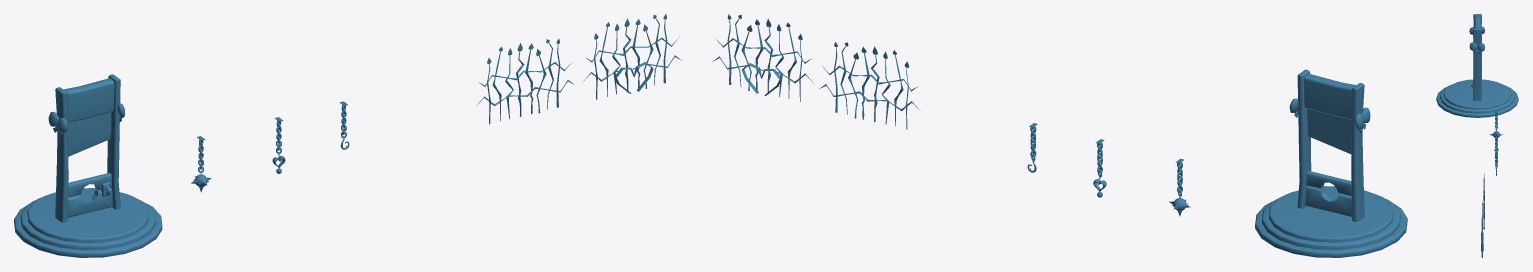
File: Set_Atlas3_Guillotina.fbx
The picture shows the model from 3 angles, left to right: view 1: azimuth 30°, elevation 25°; view 2: azimuth 150°, elevation 25°; view 3: azimuth 270°, elevation 25°; orthographic projection. The views are drawn at different scales.
Visible parts, largest first — view 1: guillotina1, mesh_rejas_low1, mesh_rejas_low, mesh_Colgante_low_v003; view 2: guillotina1, mesh_rejas_low, mesh_rejas_low1, mesh_Colgante_low_v003; view 3: guillotina1, mesh_Colgante_low_v003, mesh_rejas_low, mesh_rejas_low1, mesh_Colgante_low_v002, mesh_Colgante_low_v001.
Boxes of the visible parts, x1=… form: guillotina1: x1=14, y1=74, x2=162, y2=257; mesh_rejas_low1: x1=585, y1=14, x2=679, y2=99; mesh_rejas_low: x1=478, y1=39, x2=571, y2=124; mesh_Colgante_low_v003: x1=191, y1=136, x2=211, y2=192; guillotina1: x1=1255, y1=69, x2=1407, y2=257; mesh_rejas_low: x1=821, y1=41, x2=916, y2=129; mesh_rejas_low1: x1=715, y1=14, x2=810, y2=101; mesh_Colgante_low_v003: x1=1169, y1=158, x2=1190, y2=216; guillotina1: x1=1436, y1=14, x2=1518, y2=117; mesh_Colgante_low_v003: x1=1489, y1=110, x2=1502, y2=138; mesh_rejas_low: x1=1483, y1=173, x2=1484, y2=229; mesh_rejas_low1: x1=1481, y1=201, x2=1483, y2=257; mesh_Colgante_low_v002: x1=1494, y1=149, x2=1498, y2=175; mesh_Colgante_low_v001: x1=1494, y1=131, x2=1498, y2=161.
Bounding box in the file's own units: 61.28 × 13.56 × 11.93.
